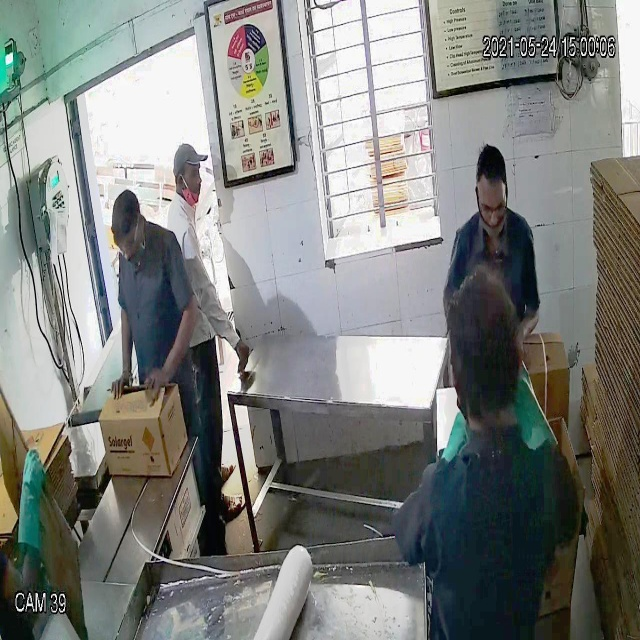Gafas: (112, 223, 144, 258)
